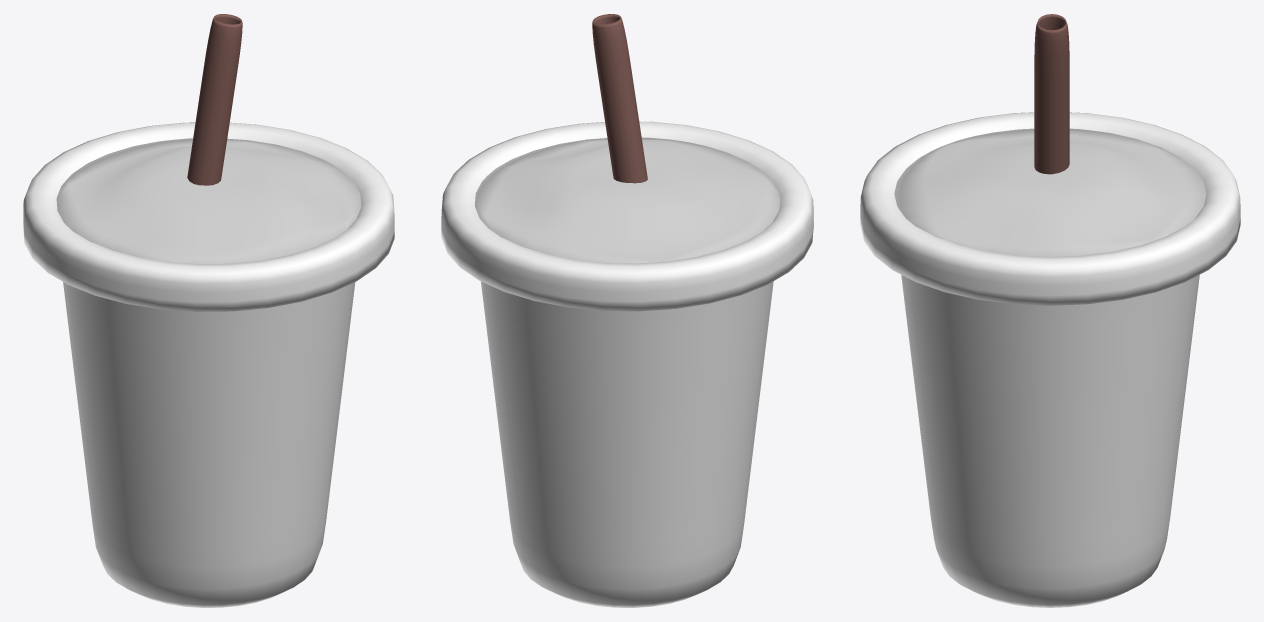
The picture shows the model from 3 angles, left to right: view 1: azimuth 30°, elevation 25°; view 2: azimuth 150°, elevation 25°; view 3: azimuth 270°, elevation 25°; orthographic projection. The views are drawn at different scales.
Parts seen in each view (by area): view 1: Cup_1, Cloud_4, Tube_6; view 2: Cup_1, Cloud_4, Tube_6; view 3: Cup_1, Cloud_4, Tube_6.
Part boxes in pixels (<box>): Cup_1: <box>23,122,394,607</box>; Cloud_4: <box>56,138,361,264</box>; Tube_6: <box>187,14,242,185</box>; Cup_1: <box>441,121,813,607</box>; Cloud_4: <box>475,137,780,263</box>; Tube_6: <box>592,14,647,183</box>; Cup_1: <box>860,112,1240,607</box>; Cloud_4: <box>894,128,1206,256</box>; Tube_6: <box>1034,14,1069,174</box>.
Size of the model in its own units: 0.4019 by 0.6209 by 0.4019.
7 materials, 7 textured.
